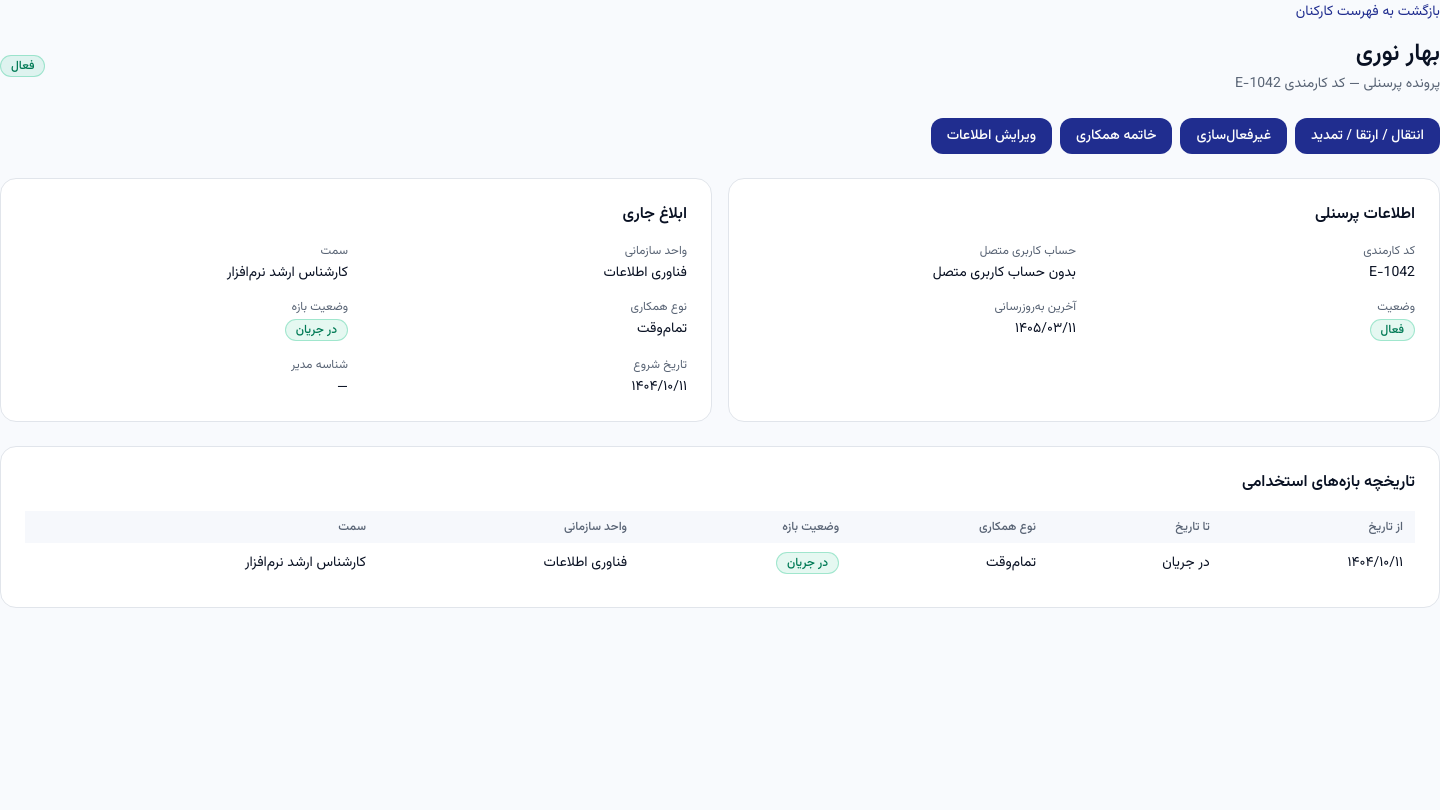
Test case: HrEmployeeDetailView › refuses to save a panel with nothing changed
The width and height of the screenshot is (1440, 810).
Click the button with test id "hr-detail-settings-open" at (991, 136), box [931,118,1052,154]
(page scrolled)
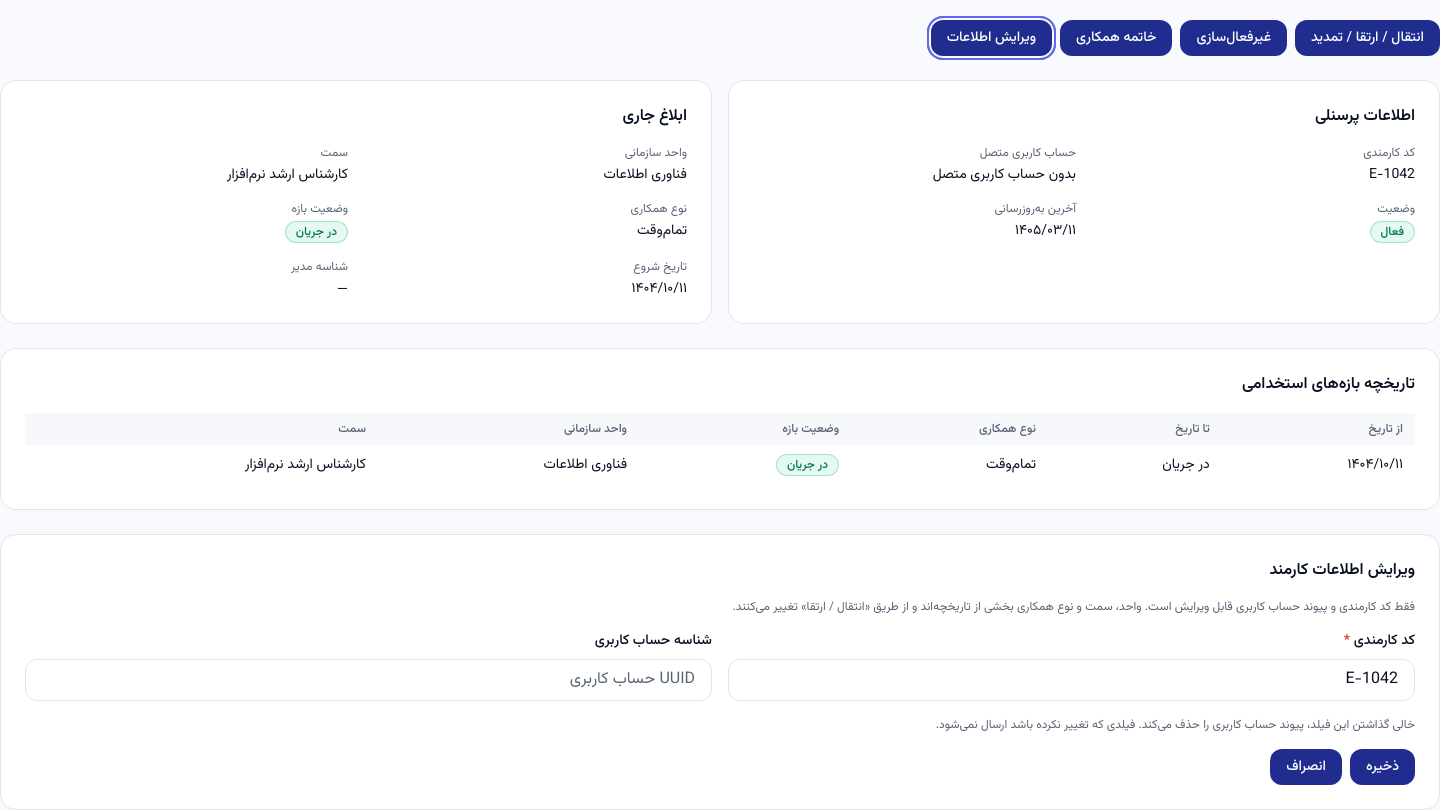
Click the button with test id "hr-settings-submit" at (1383, 767), box [1350,749,1415,785]
(page scrolled)
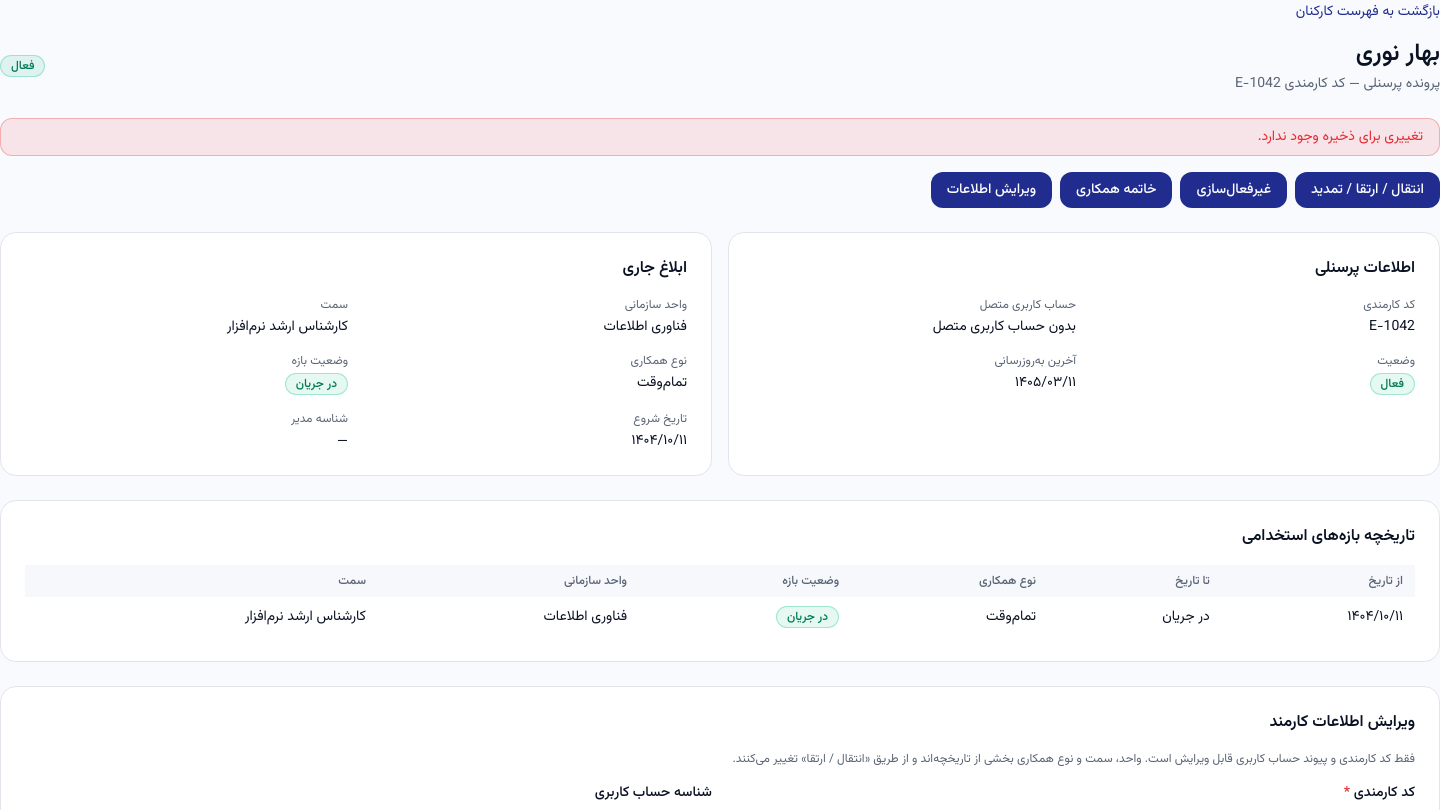
Result: the text "تغییری برای ذخیره وجود ندارد." is shown at [0,118,1439,156]
